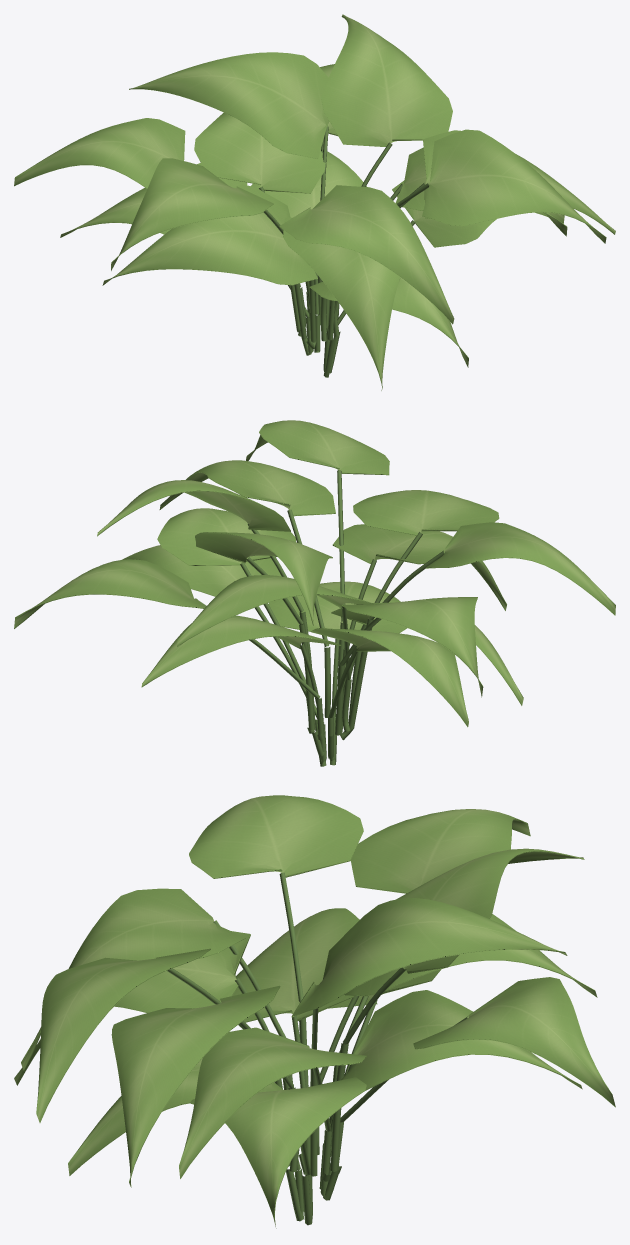
Rendered from syngonium-stage-5.glb.
3 views of the same model, one above another, from view 1: azimuth 30°, elevation 25°; view 2: azimuth 150°, elevation 25°; view 3: azimuth 270°, elevation 25° (orthographic). The views are drawn at different scales.
Parts seen in each view (by area): view 1: Leaf_14, Leaf_11, Leaf_13, Leaf_2, Leaf_10, Leaf_15, Leaf_5, Leaf_7, Leaf_12, PlantBranches, Leaf_0, Leaf_1 (+4 smaller); view 2: PlantBranches, Leaf_15, Leaf_10, Leaf_8, Leaf_9, Leaf_12, Leaf_13, Leaf_4, Leaf_14, Leaf_7, Leaf_6, Leaf_1 (+5 smaller); view 3: Leaf_11, Leaf_15, Leaf_8, Leaf_12, Leaf_6, Leaf_9, Leaf_13, PlantBranches, Leaf_10, Leaf_1, Leaf_3, Leaf_2 (+4 smaller).
Boxes of the visible parts, left/top/right/bottom form: Leaf_14: left=129, top=52, right=329, bottom=159; Leaf_11: left=321, top=14, right=452, bottom=146; Leaf_13: left=422, top=129, right=606, bottom=243; Leaf_2: left=102, top=184, right=317, bottom=285; Leaf_10: left=279, top=185, right=454, bottom=324; Leaf_15: left=111, top=158, right=273, bottom=270; Leaf_5: left=283, top=217, right=400, bottom=390; Leaf_7: left=194, top=112, right=325, bottom=193; Leaf_12: left=14, top=118, right=185, bottom=188; PlantBranches: left=258, top=126, right=429, bottom=377; Leaf_0: left=309, top=277, right=468, bottom=367; Leaf_1: left=251, top=148, right=366, bottom=217; PlantBranches: left=199, top=470, right=444, bottom=766; Leaf_15: left=425, top=522, right=615, bottom=615; Leaf_10: left=353, top=490, right=499, bottom=535; Leaf_8: left=159, top=460, right=335, bottom=516; Leaf_9: left=14, top=559, right=205, bottom=628; Leaf_12: left=342, top=597, right=483, bottom=697; Leaf_13: left=246, top=420, right=389, bottom=475; Leaf_4: left=311, top=628, right=468, bottom=727; Leaf_14: left=195, top=532, right=332, bottom=625; Leaf_7: left=177, top=575, right=375, bottom=646; Leaf_6: left=157, top=508, right=295, bottom=565; Leaf_1: left=141, top=615, right=341, bottom=687; Leaf_11: left=291, top=898, right=567, bottom=1017; Leaf_15: left=189, top=795, right=363, bottom=878; Leaf_8: left=111, top=985, right=280, bottom=1187; Leaf_12: left=350, top=809, right=530, bottom=893; Leaf_6: left=179, top=1027, right=366, bottom=1178; Leaf_9: left=413, top=977, right=615, bottom=1107; Leaf_13: left=36, top=948, right=210, bottom=1122; PlantBranches: left=167, top=872, right=467, bottom=1225; Leaf_10: left=21, top=888, right=245, bottom=1070; Leaf_1: left=341, top=990, right=582, bottom=1090; Leaf_3: left=190, top=1077, right=366, bottom=1228; Leaf_2: left=232, top=908, right=359, bottom=1022.
Bounding box in the file's own units: 2.21 × 1.26 × 1.87.
Materials: 2 (1 with a texture image).
